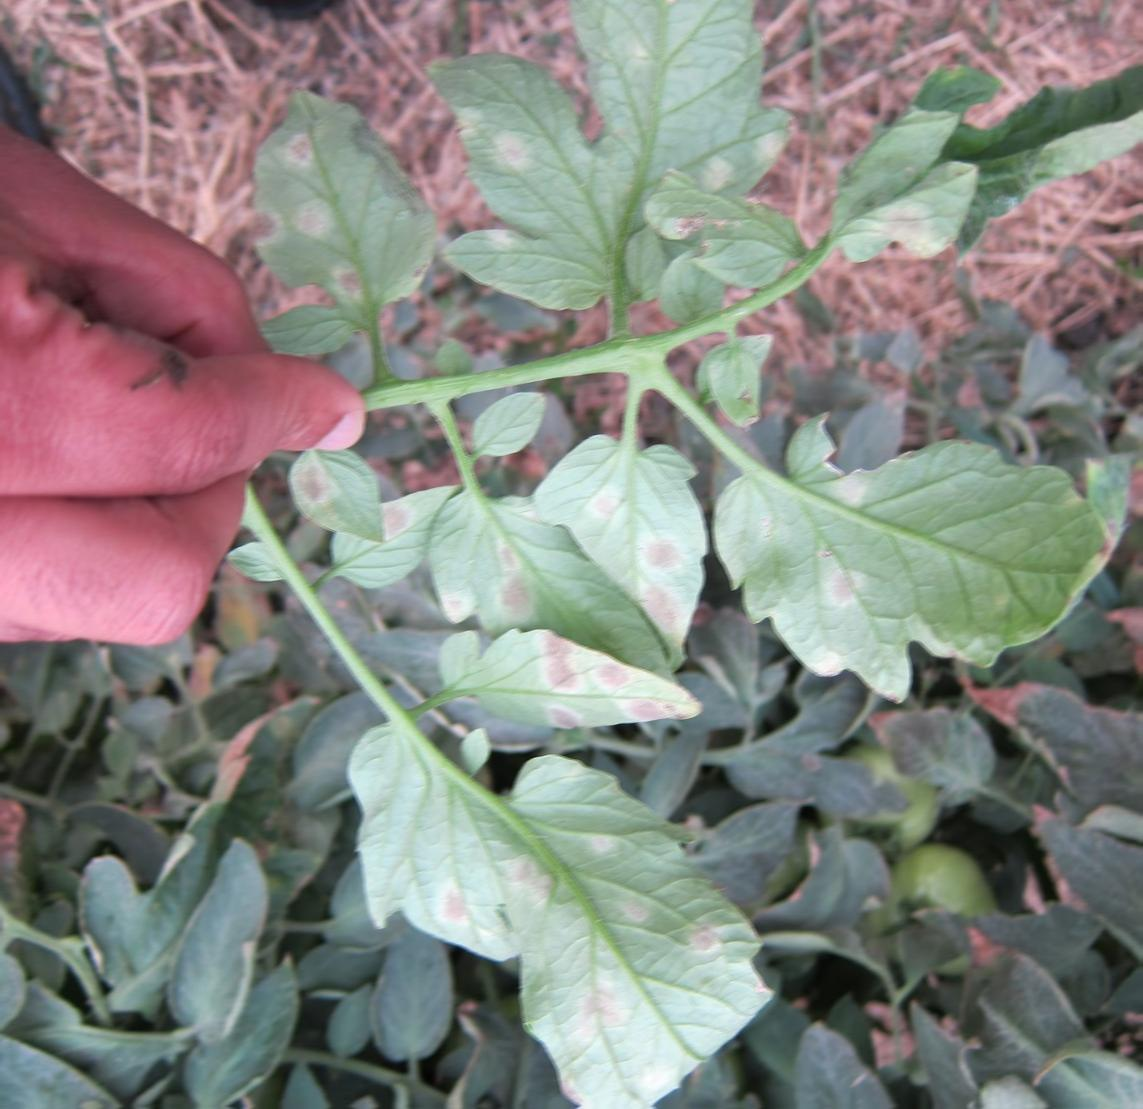Tomato mold leaf: (360, 718, 778, 1109), (712, 430, 1143, 707), (430, 0, 782, 308), (832, 26, 1143, 275), (424, 481, 679, 699), (248, 85, 448, 358), (519, 429, 720, 679), (413, 636, 716, 763), (652, 166, 812, 300), (283, 450, 407, 571)
